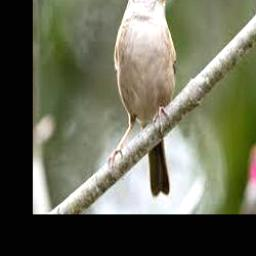Sparrow: (109, 0, 177, 196)
